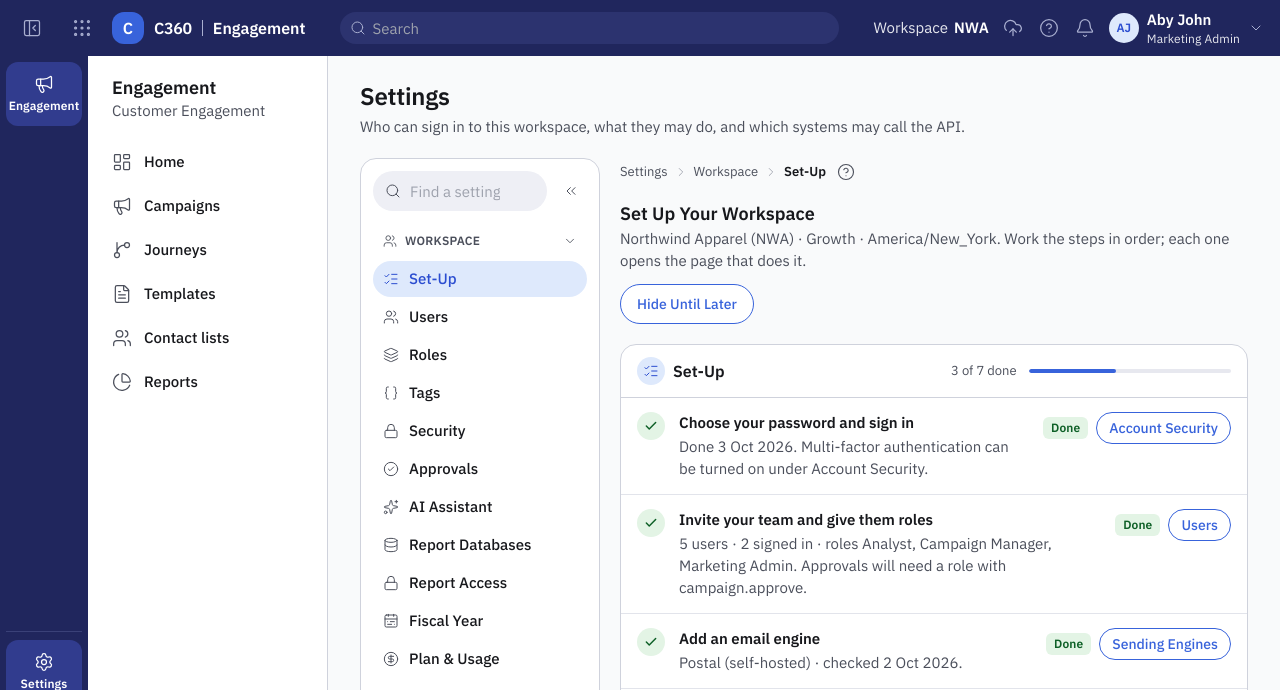
Test: the page: seven steps with their state, the next one explained with its primary link, the meter; Hide Until Later hides the Home card
Expected: the heading "Set Up Your Workspace" is shown, [620, 202, 815, 225]
Expected: the text "Northwind Apparel (NWA) · Growth · America/New_York. Work the steps in order" is shown, [620, 228, 1248, 272]
Click the button "Hide Until Later" at x=687, y=304, box [620, 284, 754, 324]
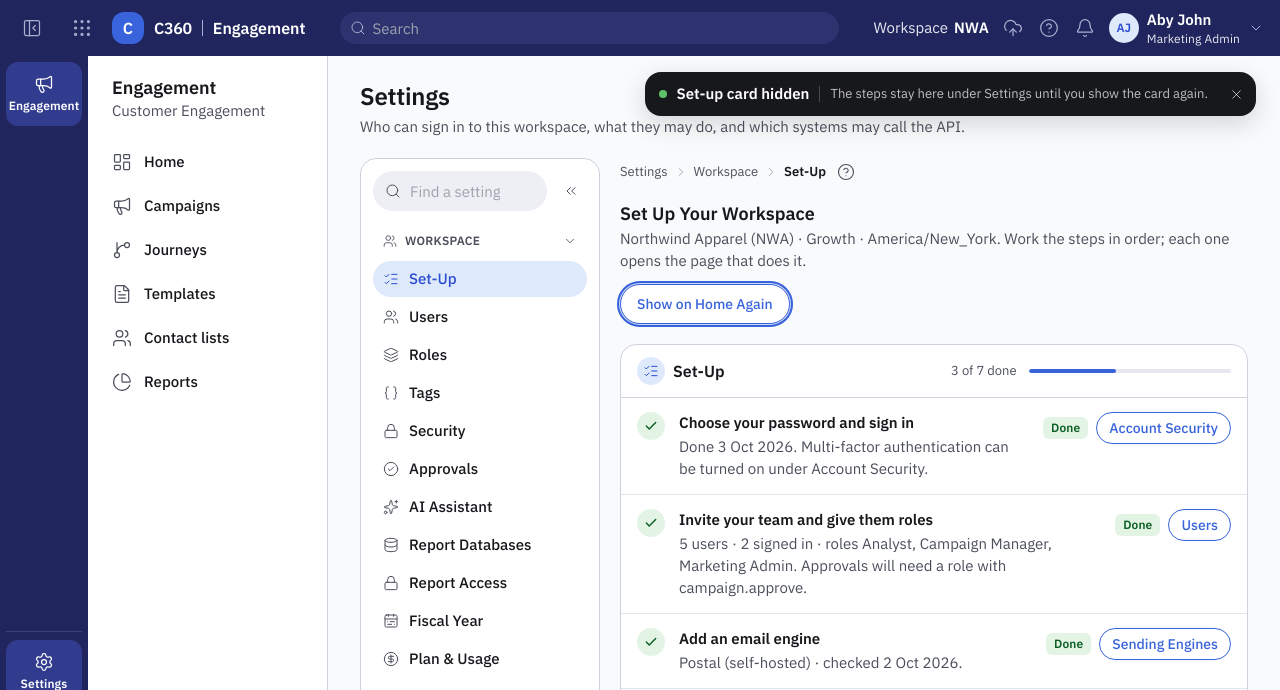
Expected: the 2nd text "Set-Up" is shown, [409, 268, 457, 290]
Now the button "Show on Home Again" is shown, box [620, 284, 790, 324]
